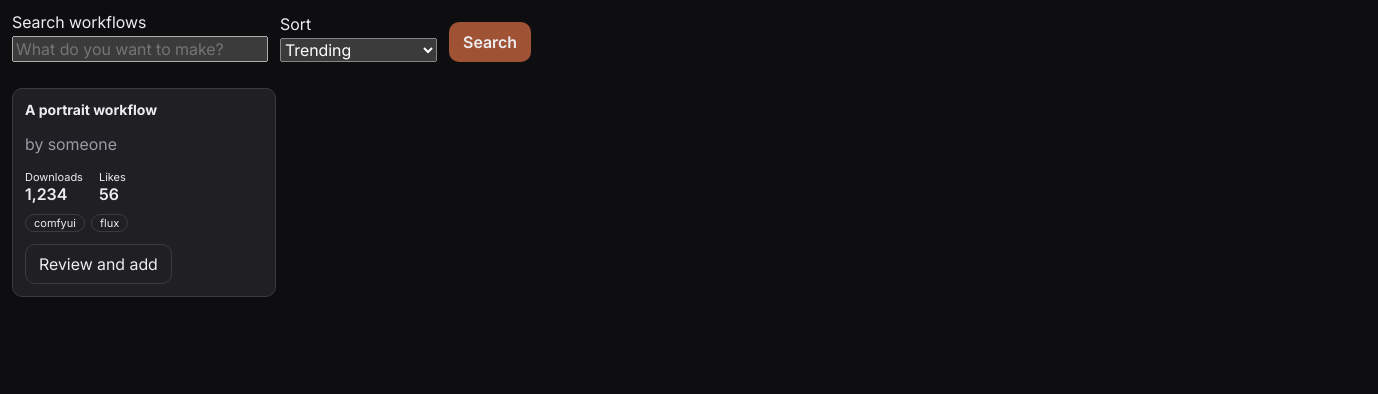
Scenario: says why a workflow could not be fetched, and opens no review
Click the button "Review and add" at (98, 264), box [25,244,172,284]
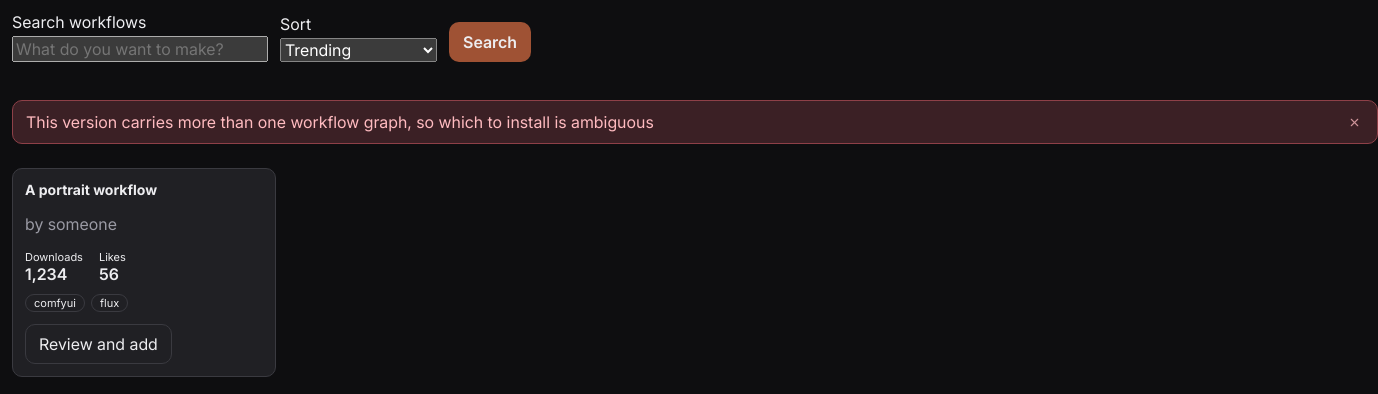
Now the message shows "more than one workflow graph", box [26,112,654,132]
